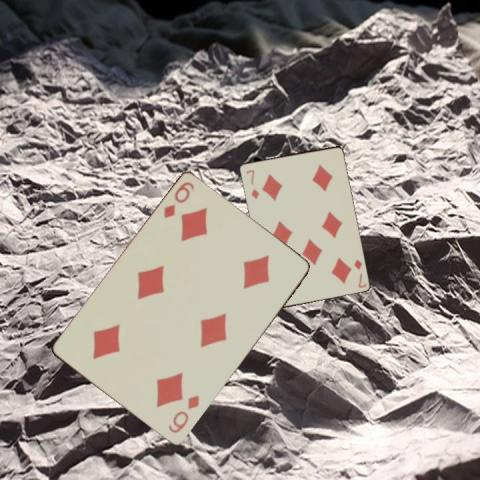6d: (165, 392, 201, 435), (161, 179, 196, 220)
7d: (243, 166, 260, 200), (351, 256, 367, 289)
